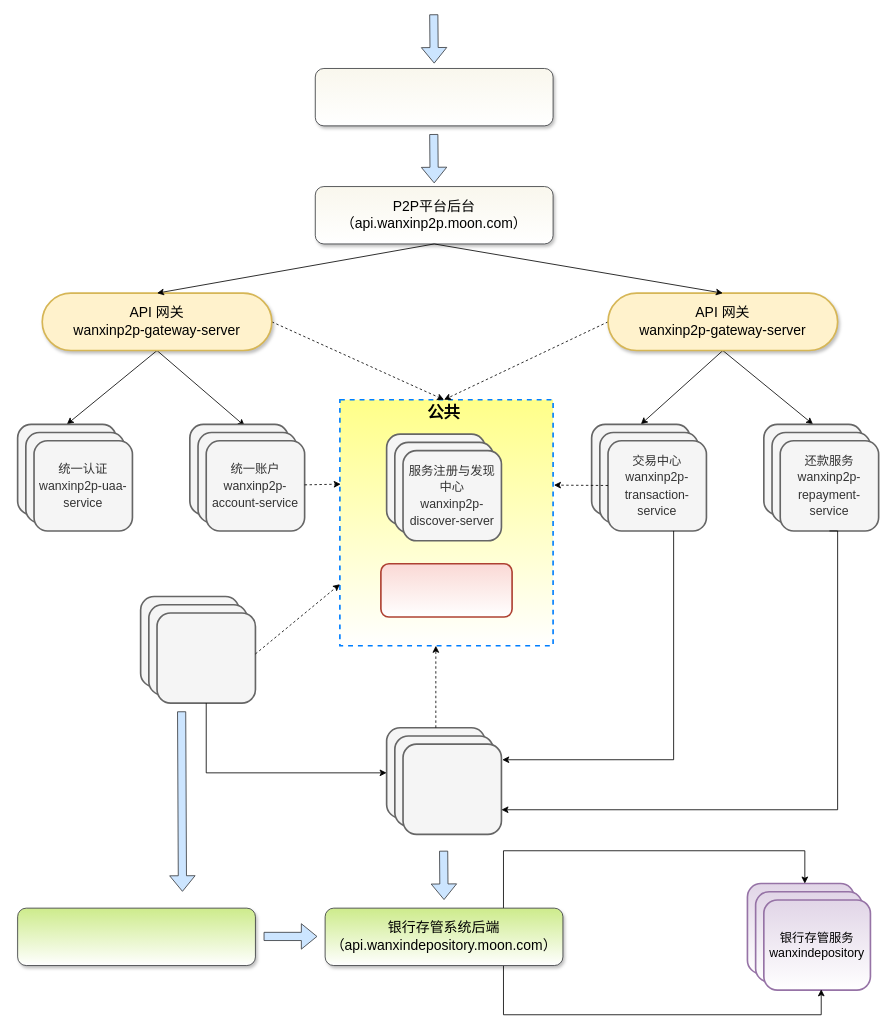
Some shapes in this 894 by 1036 pixel diagram are drawn without their labels. Each missing label, with the centre of its shape:
"P2P平台前端 （wanxinp2p.moon.com）" goes at point 434,98.
"存管代理服务 wanxinp2p-depository-agent-service" goes at point 452,789.
"用户中心 wanxinp2p-consumer-service" goes at point 206,658.
"统一配置中心 Apollo" goes at point 446,590.
"银行存管系统前端 （wanxindepository.moon.com）" goes at point 137,937.
